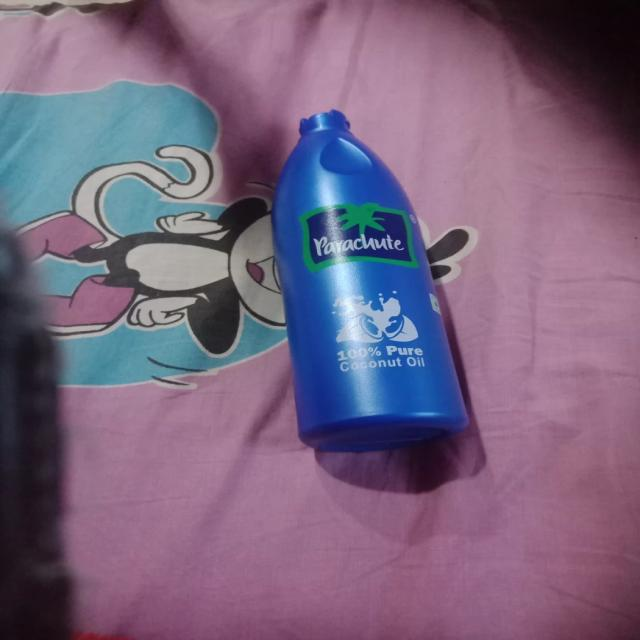parachute_oil: (245, 104, 492, 454)
